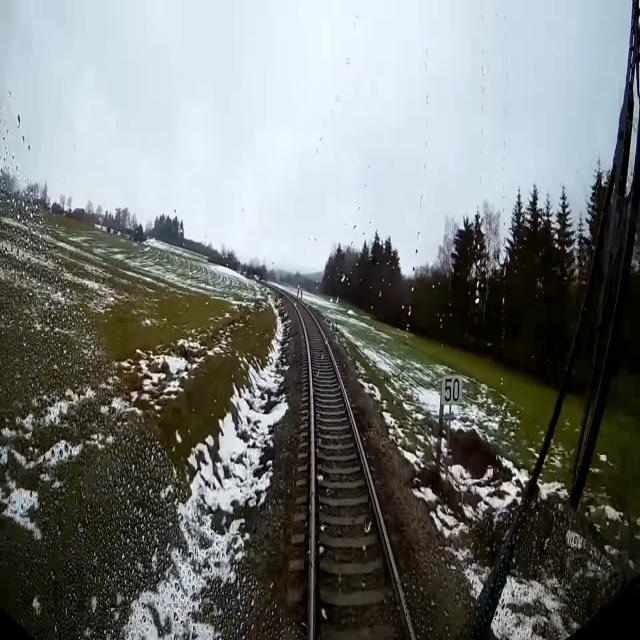rail-track: (288, 295, 411, 639)
